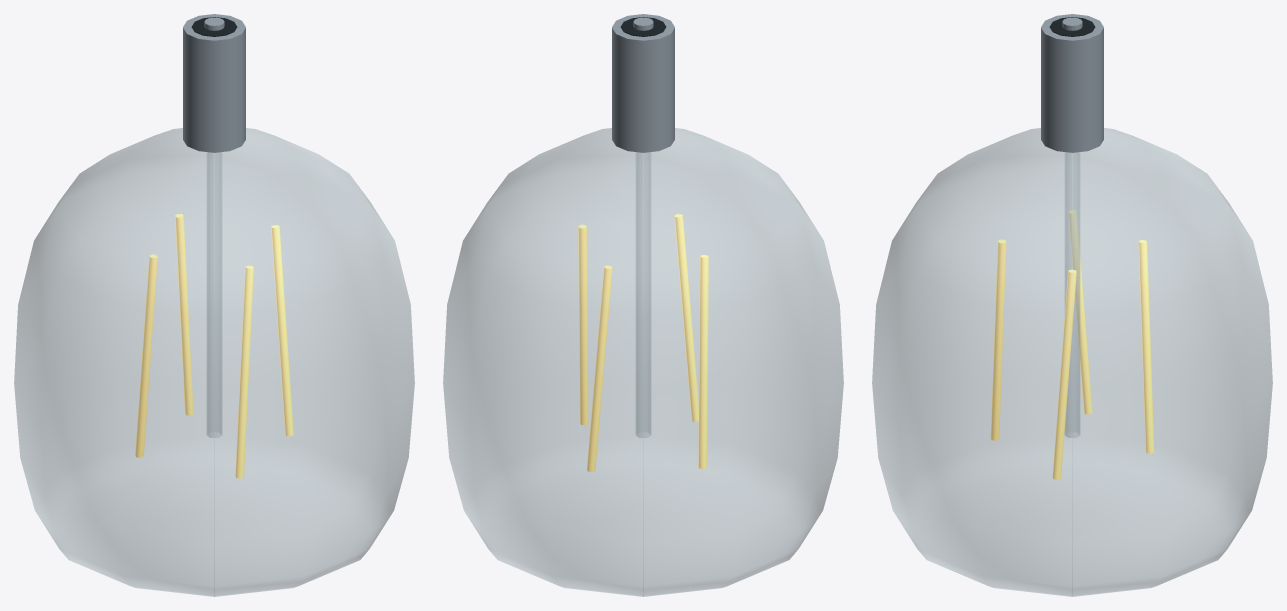
Rendered from source.glb.
3 views of the same model, side by side, from view 1: azimuth 30°, elevation 25°; view 2: azimuth 150°, elevation 25°; view 3: azimuth 270°, elevation 25° (orthographic).
Parts seen in each view (by area): view 1: 光学透明件, 机加工金属, Emitters; view 2: 光学透明件, 机加工金属, Emitters; view 3: 光学透明件, 机加工金属, Emitters.
Boxes of the visible parts, x1,y1,x2,y2 form: 光学透明件: (14, 128, 414, 596); 机加工金属: (183, 14, 245, 152); Emitters: (135, 214, 293, 478); 光学透明件: (443, 128, 843, 596); 机加工金属: (612, 14, 674, 152); Emitters: (578, 214, 708, 472); 光学透明件: (872, 128, 1272, 596); 机加工金属: (1041, 14, 1103, 152); Emitters: (990, 210, 1154, 479).
Size of the model in its own units: 0.171 by 0.2439 by 0.171.
